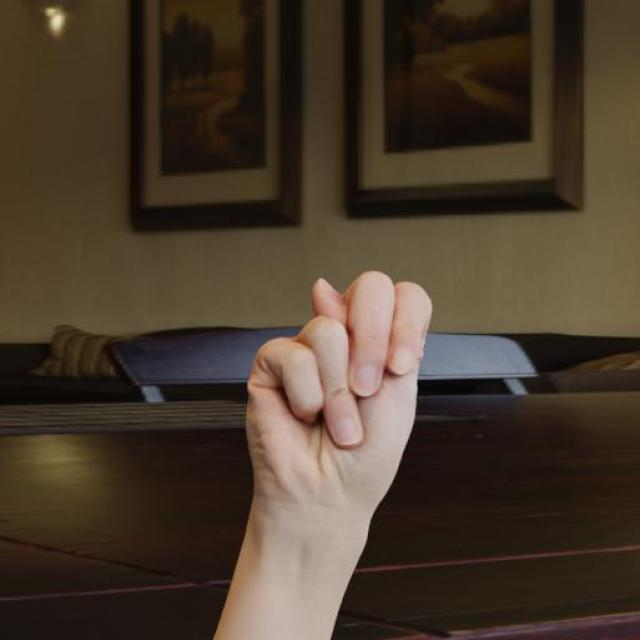N: (239, 268, 440, 516)
